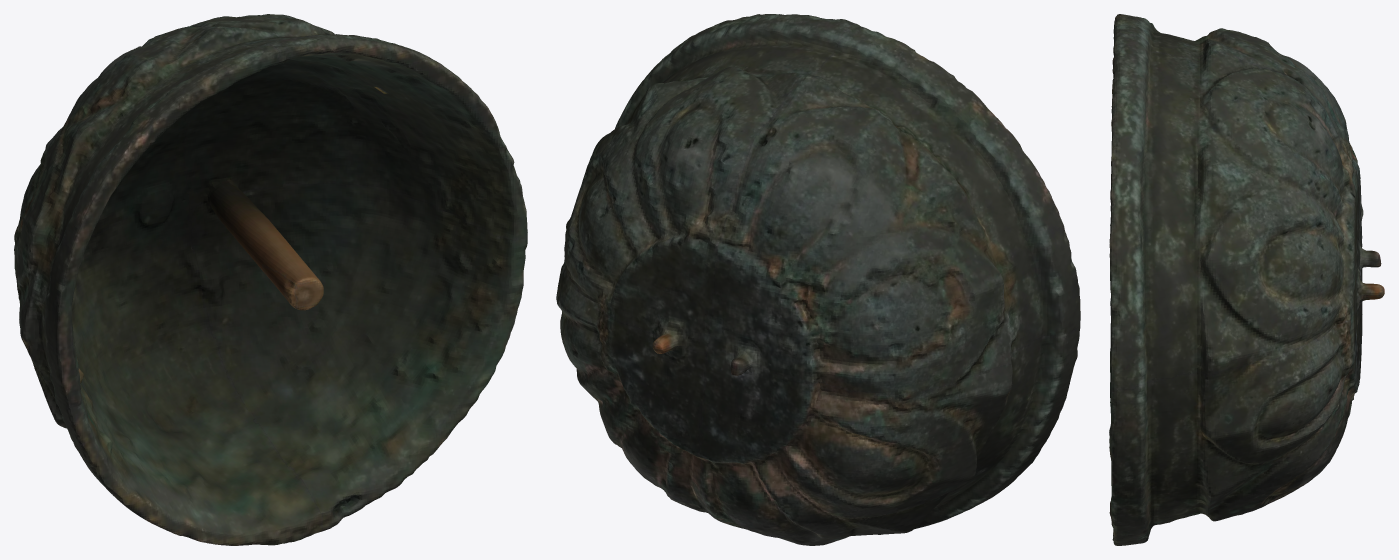
The model's file is nmk-36548993.glb.
3 renders of one model, left to right at view 1: azimuth 30°, elevation 25°; view 2: azimuth 150°, elevation 25°; view 3: azimuth 270°, elevation 25°, orthographic. The views are drawn at different scales.
Visible parts, largest first — view 1: koo010426-001-30000; view 2: koo010426-001-30000; view 3: koo010426-001-30000.
Part boxes in pixels (<box>): koo010426-001-30000: <box>14,14,527,545</box>; koo010426-001-30000: <box>556,14,1080,545</box>; koo010426-001-30000: <box>1109,14,1384,545</box>.
Size of the model in its own units: 1.32 by 1.33 by 0.6877.
Materials: 1 (1 with a texture image).
